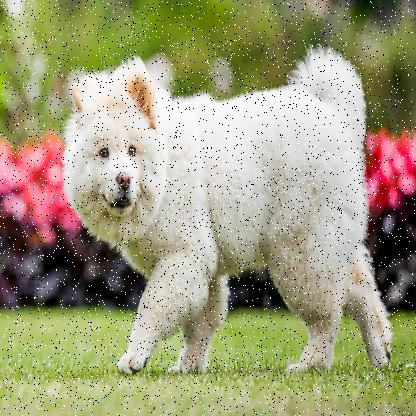dog: (58, 45, 399, 377)
